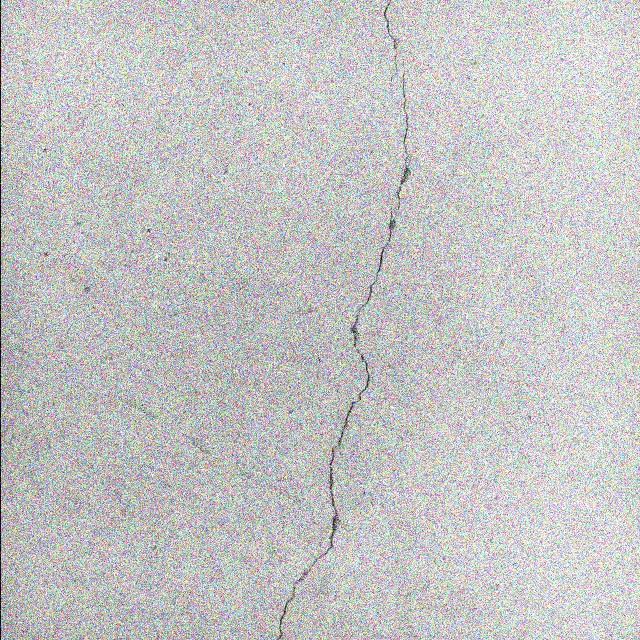SurfaceCrack: (222, 0, 446, 640)
